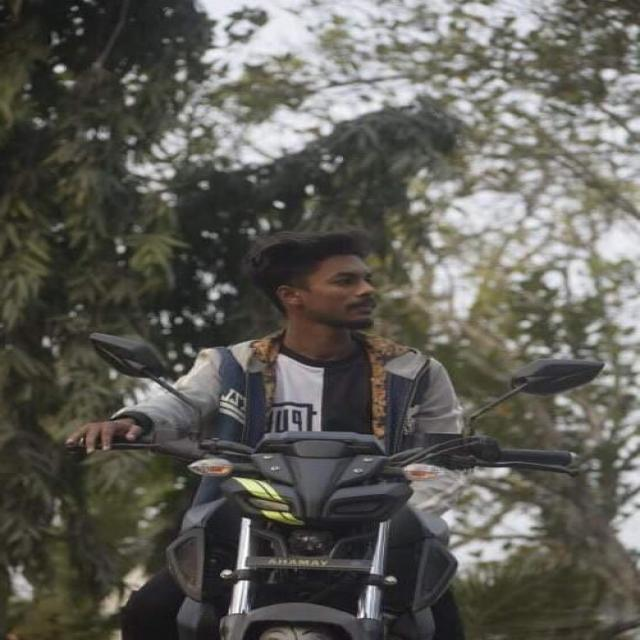Not Wearing Helmet: (230, 214, 461, 402)
